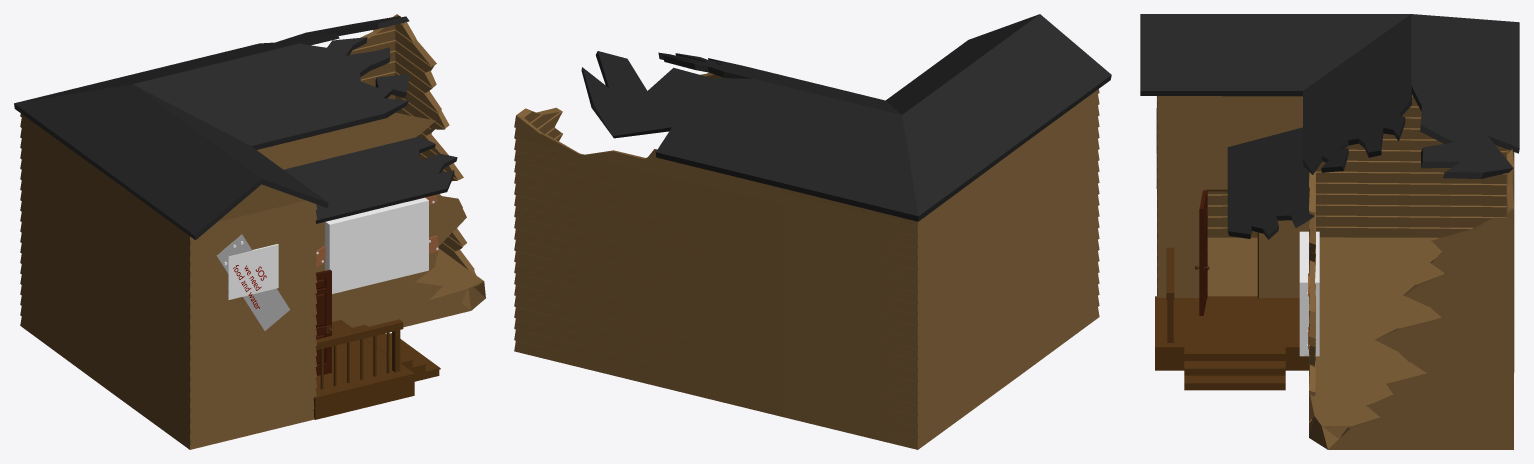
Rendered from finished.fbx.
The picture shows the model from 3 angles, left to right: view 1: azimuth 30°, elevation 25°; view 2: azimuth 150°, elevation 25°; view 3: azimuth 270°, elevation 25°; orthographic projection. The views are drawn at different scales.
Parts seen in each view (by area): view 1: house, roof (2), roof, CTRL_Hole, deck, CTRL_Hole.001, board 3, door, Stairs, roof part 1, railing, railing 3; view 2: house, roof (2); view 3: house, roof (2), deck, roof, Stairs, CTRL_Hole, door, railing.
Boxes of the visible parts, x1,y1,x2,y2 form: house: [20, 14, 485, 449]; roof (2): [14, 16, 409, 240]; roof: [284, 137, 457, 223]; CTRL_Hole: [324, 197, 428, 293]; deck: [313, 320, 414, 419]; CTRL_Hole.001: [227, 244, 278, 299]; board 3: [216, 234, 289, 330]; door: [315, 269, 331, 375]; Stairs: [351, 324, 440, 381]; roof part 1: [217, 184, 305, 222]; railing: [315, 319, 403, 350]; railing 3: [320, 332, 389, 389]; house: [514, 72, 1099, 449]; roof (2): [581, 14, 1111, 221]; house: [1157, 94, 1514, 449]; roof (2): [1140, 14, 1519, 178]; deck: [1155, 296, 1308, 370]; roof: [1227, 127, 1313, 239]; Stairs: [1184, 346, 1285, 390]; CTRL_Hole: [1299, 231, 1319, 356]; door: [1195, 190, 1209, 315]; railing: [1166, 247, 1174, 300].
Bounding box in the file's own units: 913 × 600 × 750.
